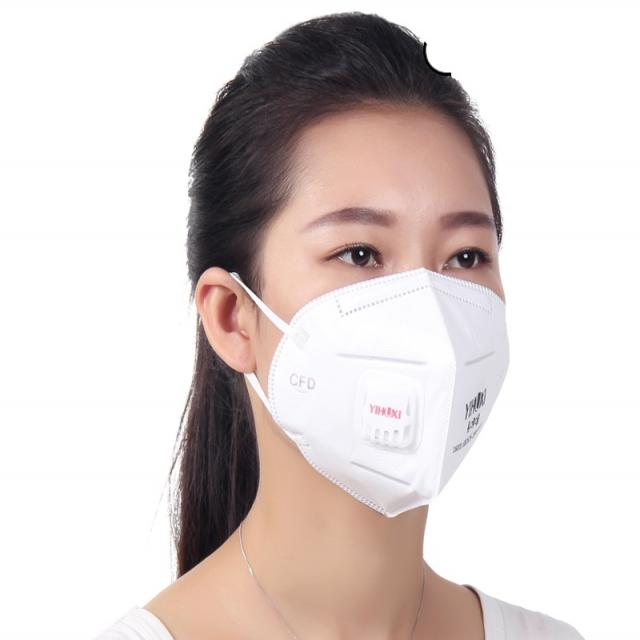mask: (260, 114, 504, 468)
